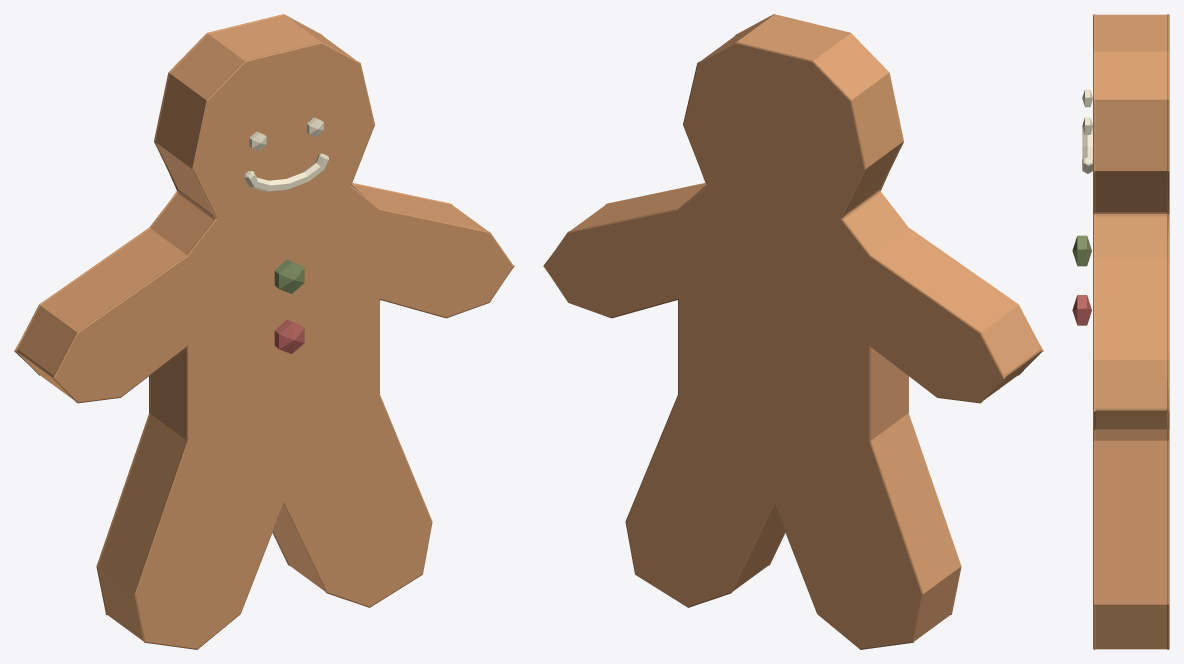
Rendered from gingerbread.glb.
The picture shows the model from 3 angles, left to right: view 1: azimuth 30°, elevation 25°; view 2: azimuth 150°, elevation 25°; view 3: azimuth 270°, elevation 25°; orthographic projection.
Parts seen in each view (by area): view 1: gingerbread; view 2: gingerbread; view 3: gingerbread.
Part boxes in pixels (bbox=[...]): gingerbread: bbox=[14, 14, 514, 649]; gingerbread: bbox=[543, 14, 1043, 649]; gingerbread: bbox=[1072, 14, 1169, 649].
Size of the model in its own units: 0.0966 by 0.1152 by 0.0178.
